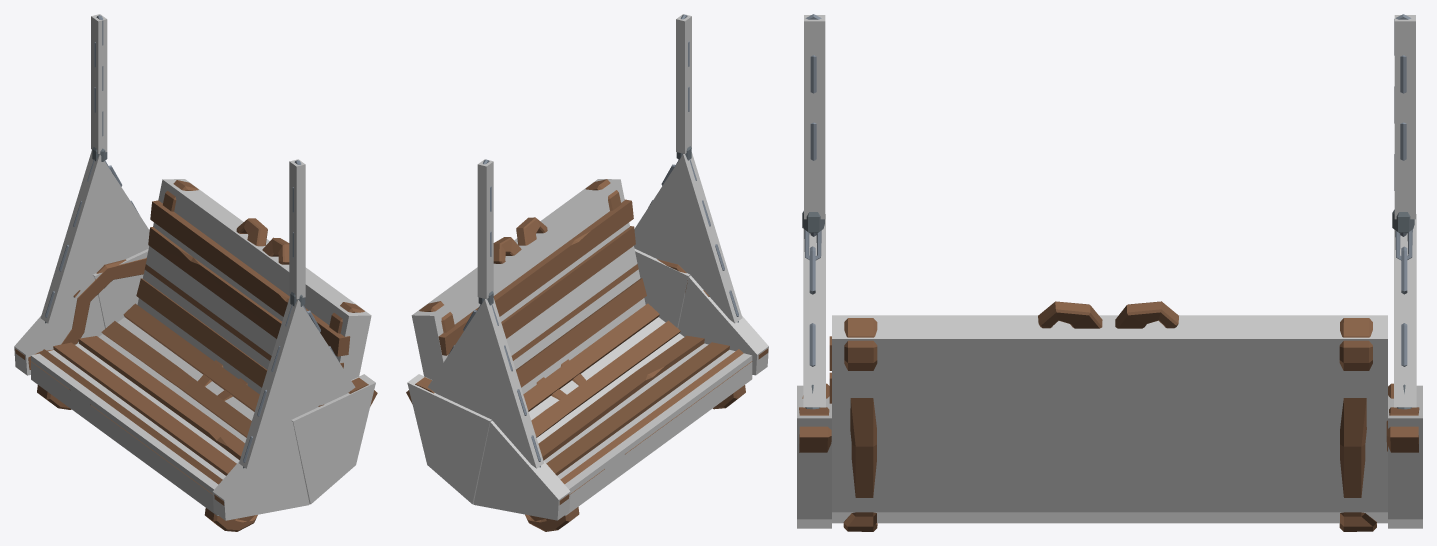
File: SM_Prop_Trellis_Swing_01_Seat.fbx
3 renders of one model, left to right at view 1: azimuth 30°, elevation 25°; view 2: azimuth 150°, elevation 25°; view 3: azimuth 270°, elevation 25°, orthographic. The views are drawn at different scales.
Parts seen in each view (by area): view 1: SM_Prop_Trellis_Swing_01_Seat_ConvexHulls, SM_Prop_Trellis_Swing_01_Seat; view 2: SM_Prop_Trellis_Swing_01_Seat_ConvexHulls, SM_Prop_Trellis_Swing_01_Seat; view 3: SM_Prop_Trellis_Swing_01_Seat_ConvexHulls, SM_Prop_Trellis_Swing_01_Seat.
Boxes of the visible parts, x1,y1,x2,y2 form: SM_Prop_Trellis_Swing_01_Seat_ConvexHulls: (14,14,375,520); SM_Prop_Trellis_Swing_01_Seat: (15,15,377,531); SM_Prop_Trellis_Swing_01_Seat_ConvexHulls: (407,14,768,520); SM_Prop_Trellis_Swing_01_Seat: (406,14,768,531); SM_Prop_Trellis_Swing_01_Seat_ConvexHulls: (797,15,1422,528); SM_Prop_Trellis_Swing_01_Seat: (799,14,1419,531).
Bounding box in the file's own units: 97.35 × 220 × 213.
Materials: 2 (1 with a texture image).
